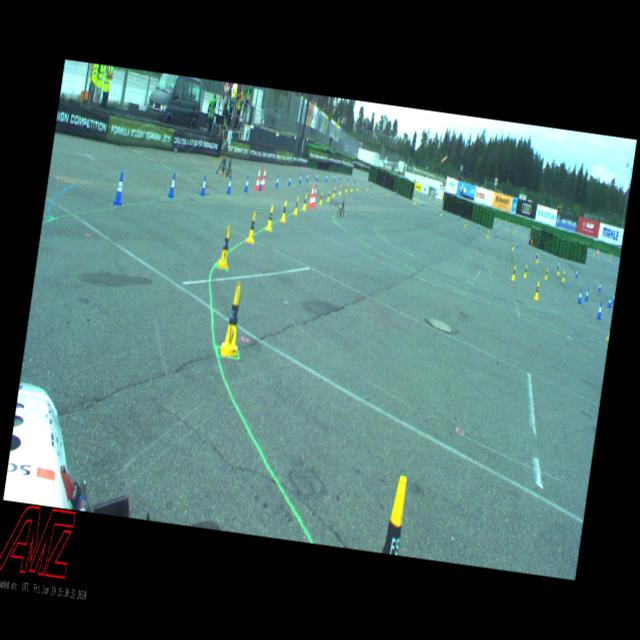blue_cone: (114, 171, 126, 206), (168, 172, 178, 198), (200, 175, 208, 196), (596, 302, 604, 320), (227, 176, 233, 194), (244, 176, 250, 192), (578, 288, 584, 304), (584, 288, 590, 301), (275, 175, 280, 188), (259, 176, 263, 190), (608, 295, 612, 308), (288, 174, 292, 186), (598, 282, 602, 292), (612, 292, 616, 302), (299, 173, 302, 184), (556, 260, 560, 268), (306, 173, 309, 182), (576, 270, 578, 278)
large_orange_cone: (260, 167, 268, 190), (255, 166, 262, 192), (308, 184, 315, 208), (312, 185, 318, 208)
yellow_cone: (219, 282, 248, 358), (382, 475, 409, 556), (218, 224, 234, 269), (246, 211, 258, 244), (266, 204, 275, 230), (280, 200, 288, 222), (534, 281, 540, 301), (294, 197, 300, 214), (302, 194, 308, 210), (606, 324, 611, 341), (523, 264, 528, 278), (544, 268, 549, 280), (512, 266, 516, 280), (320, 192, 324, 205), (327, 190, 331, 201), (562, 271, 566, 282), (333, 188, 336, 198), (536, 254, 539, 263), (557, 266, 560, 274)
